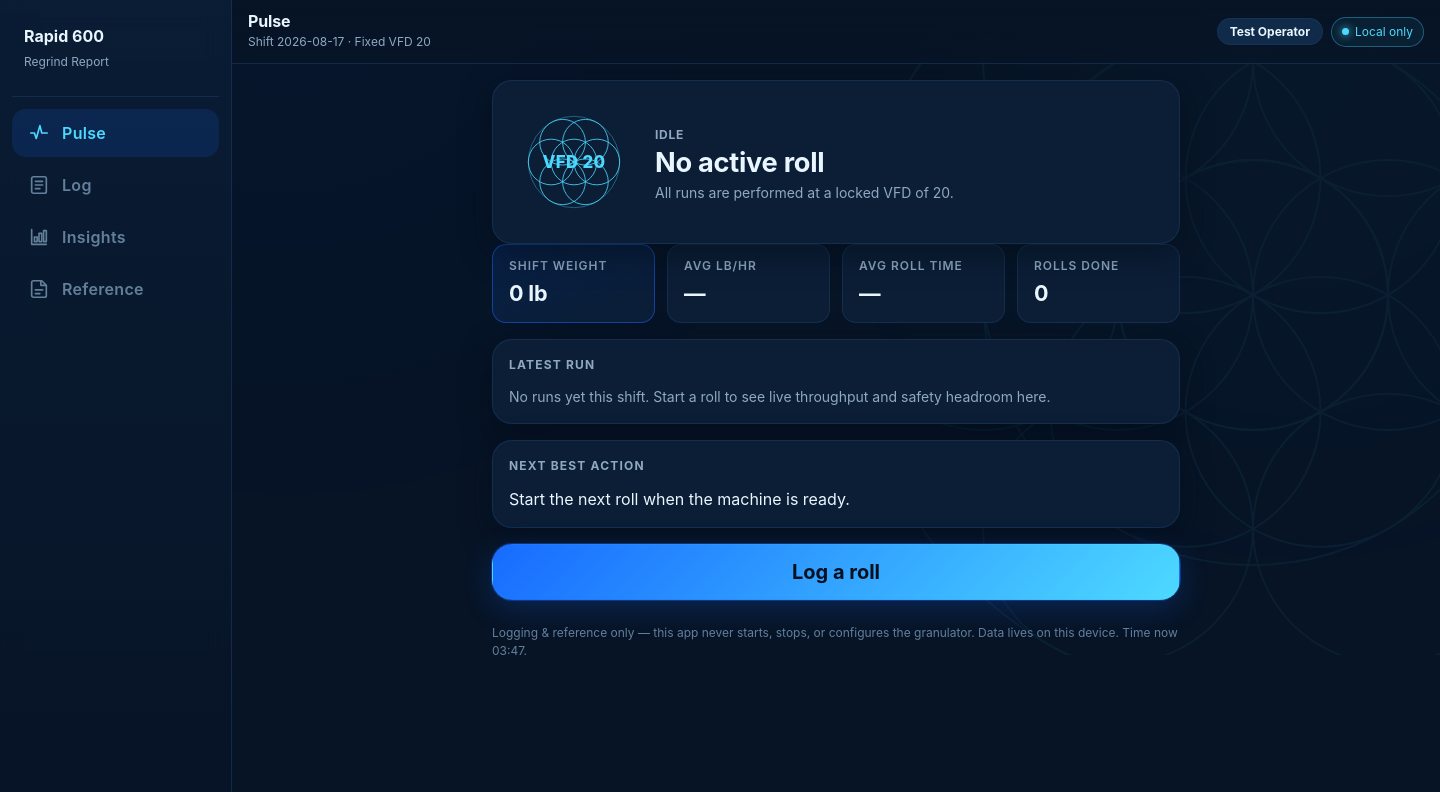
Reference settings fields › adopts a reset material target instead of showing a stale one
Click the button "Reference" at (116, 289), box [12,265,219,313]
(page scrolled)
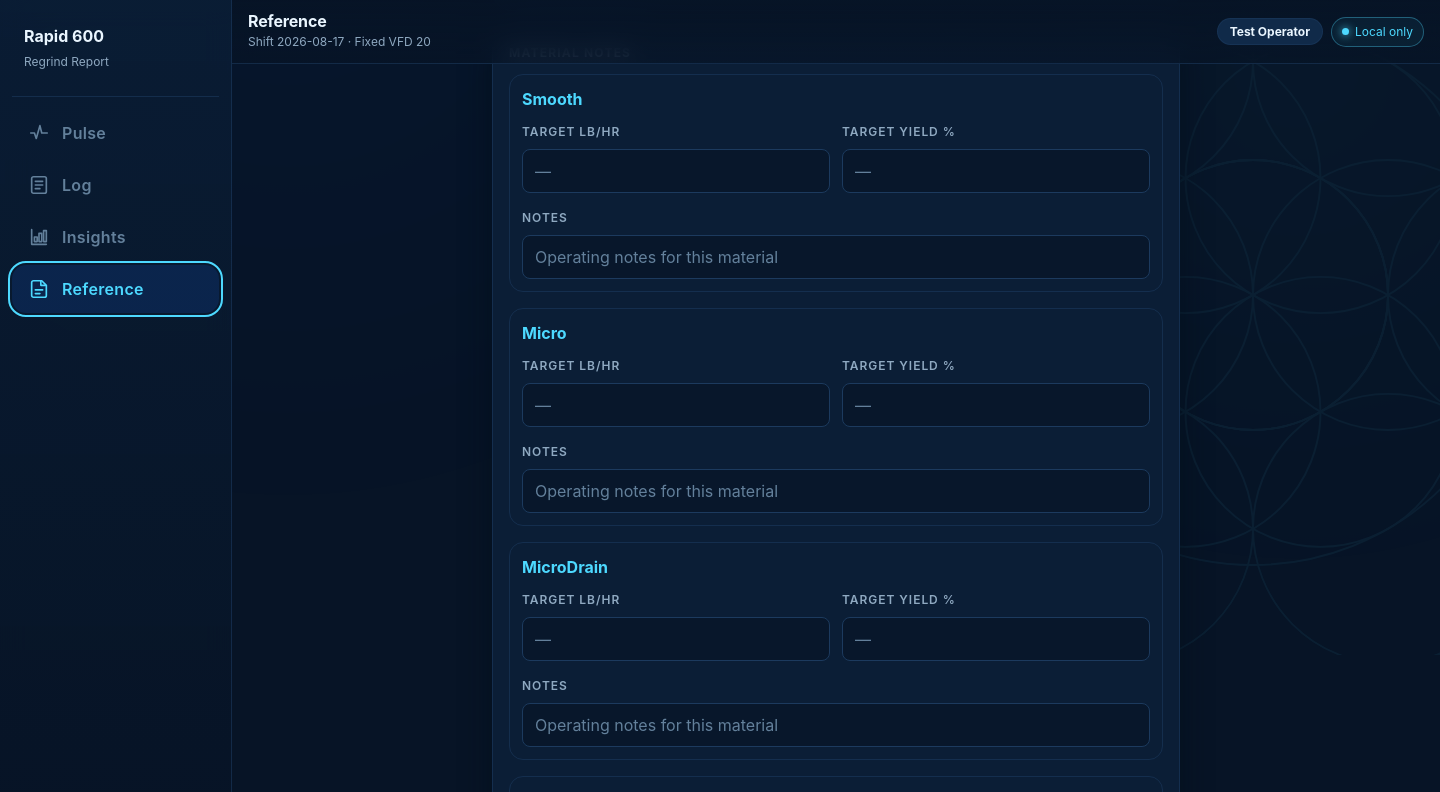
Type "1300" into the 2nd number field labelled "Target lb/hr" at (676, 405), box [522,383,830,427]
(page scrolled)
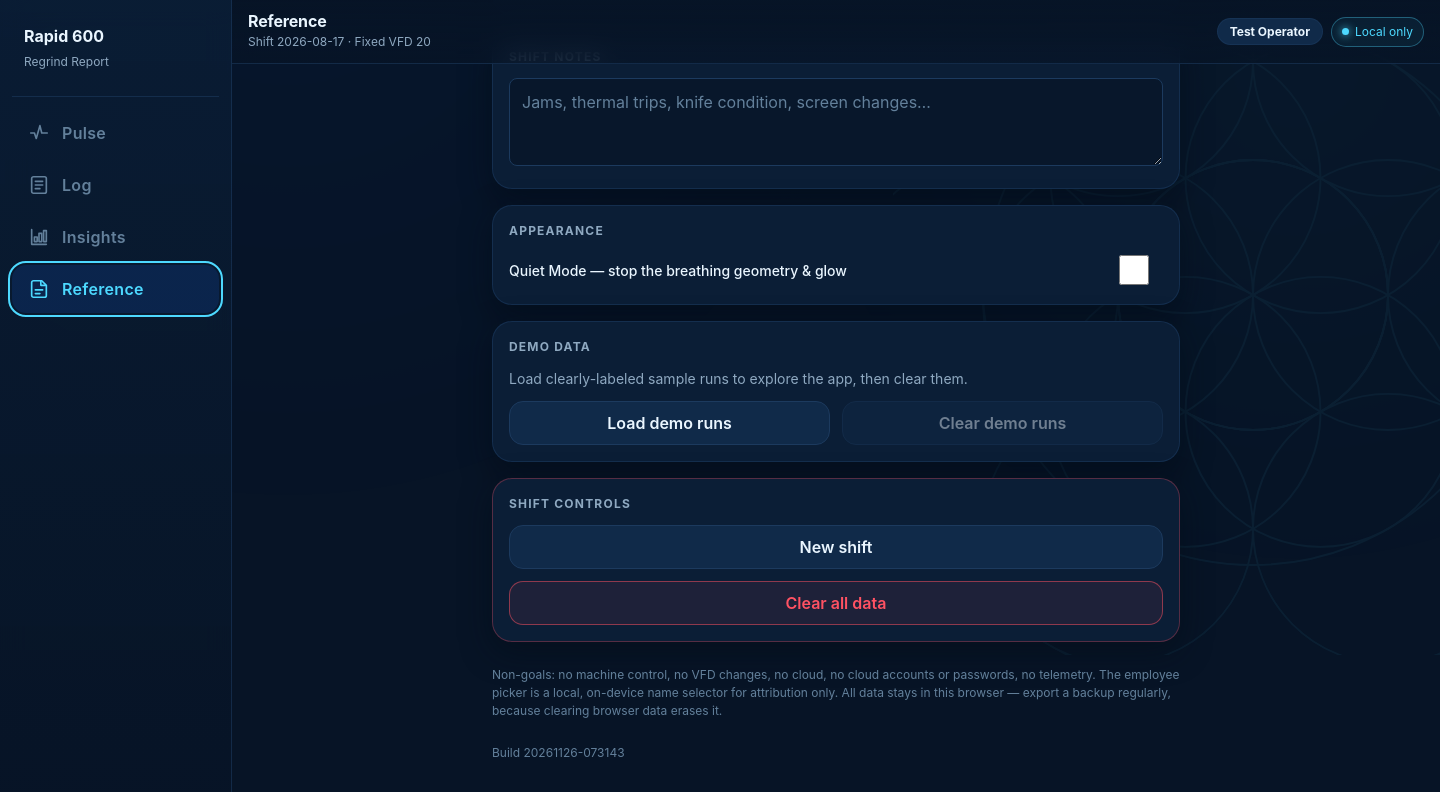
Click the button "Clear all data" at (836, 603), box [509,581,1163,625]
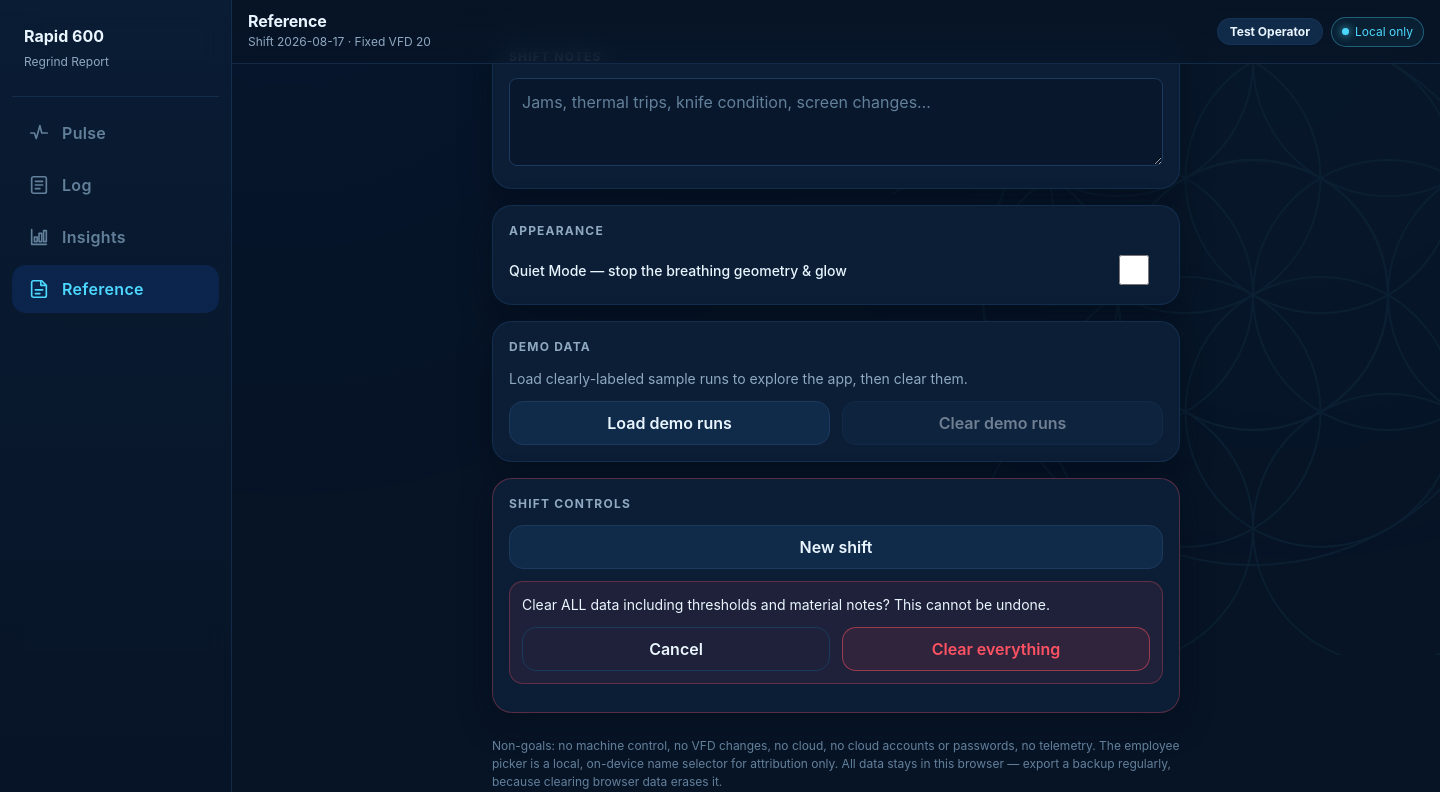
Click the button "Clear everything" at (996, 649), box [842,627,1150,671]
(page scrolled)
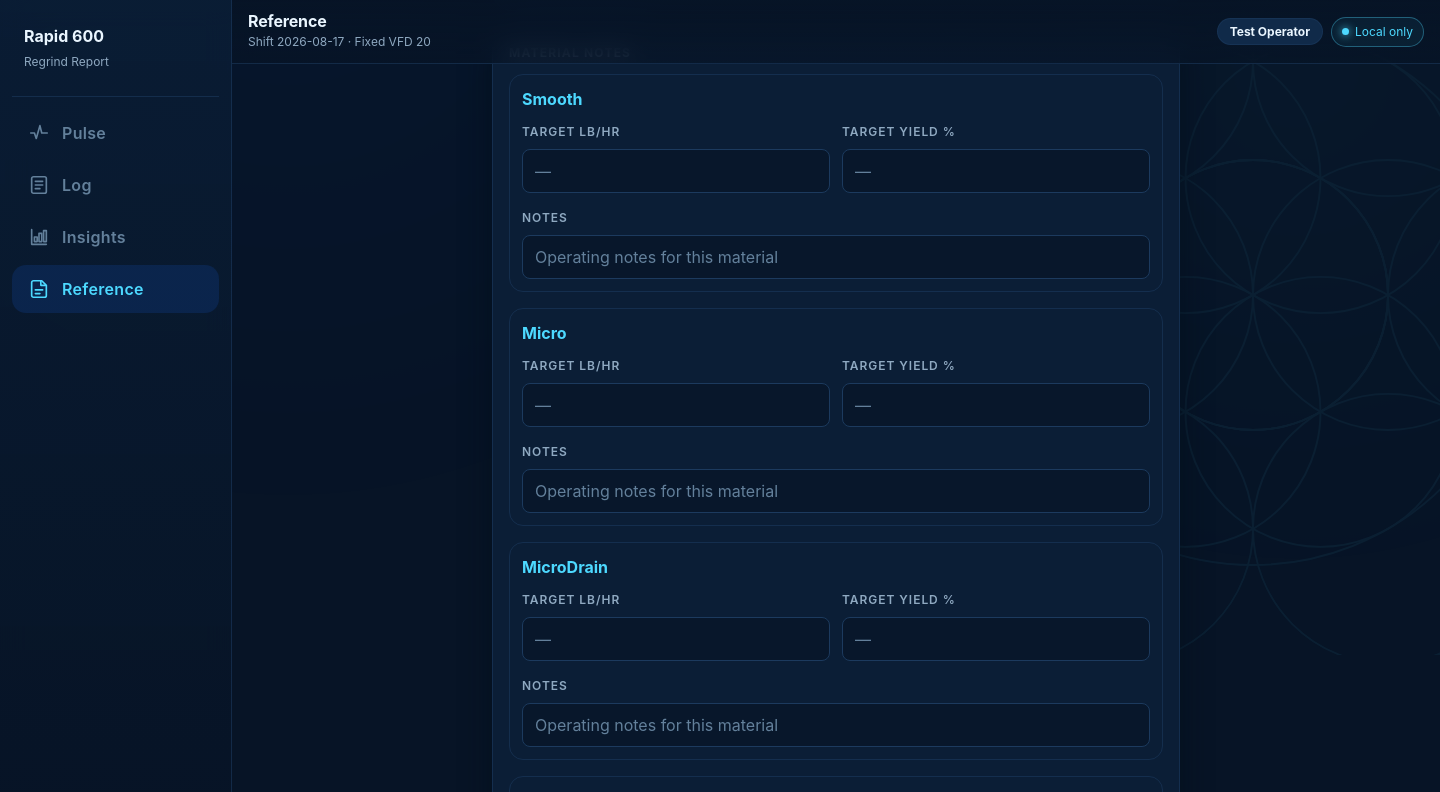
Check: the 2nd number field labelled "Target lb/hr" is not empty, box [522,383,830,427]
